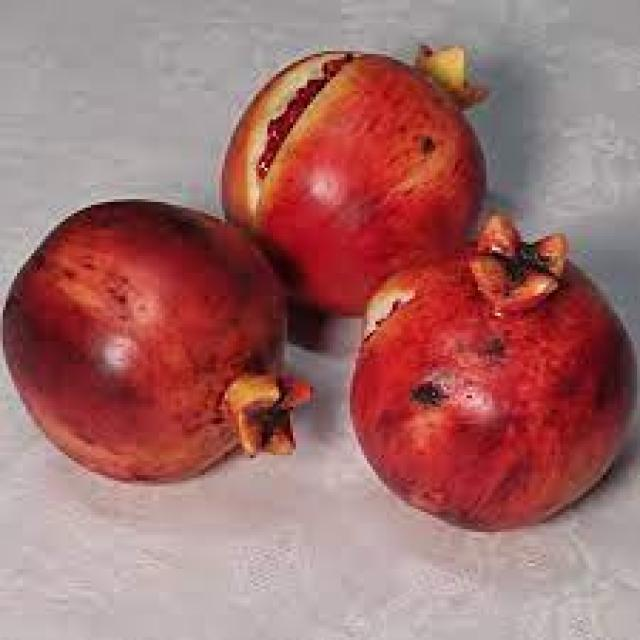overripe: (338, 210, 640, 540), (0, 192, 318, 492), (217, 32, 492, 215)
